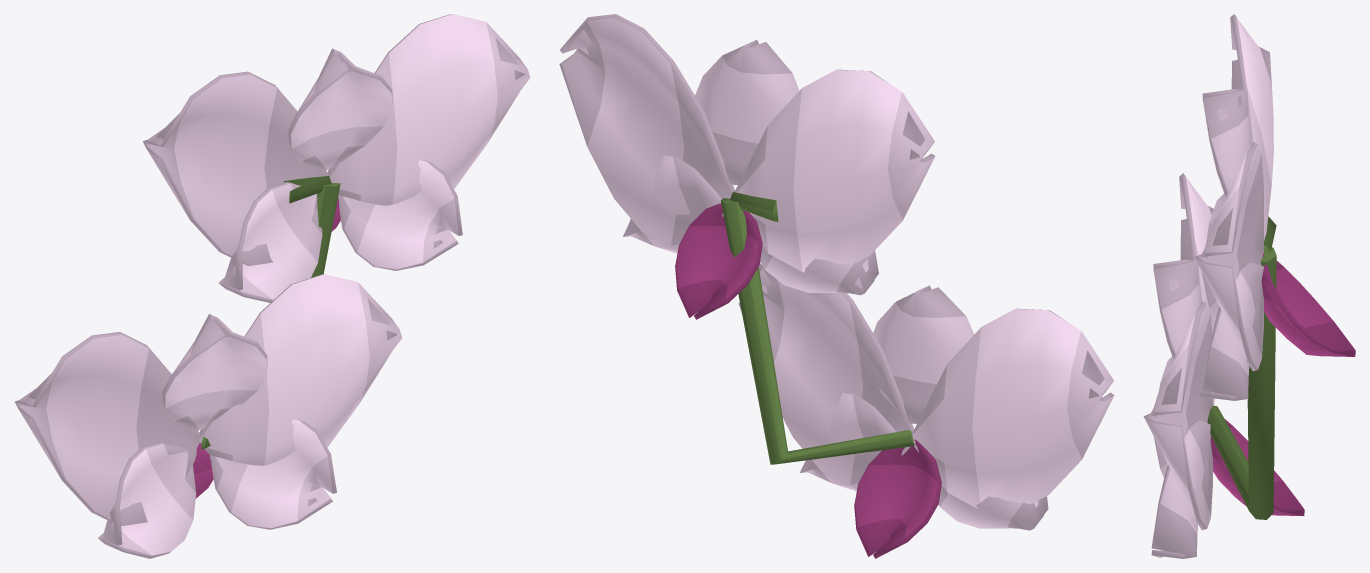
File: garden-orchid-bloom-head-1.glb
3 views of the same model, side by side, from view 1: azimuth 30°, elevation 25°; view 2: azimuth 150°, elevation 25°; view 3: azimuth 270°, elevation 25° (orthographic). The views are drawn at different scales.
Visible parts, largest first — view 1: orchid-bloom-head-1; view 2: orchid-bloom-head-1; view 3: orchid-bloom-head-1.
Part boxes in pixels (left/top/right/bottom): orchid-bloom-head-1: left=14, top=14, right=530, bottom=558; orchid-bloom-head-1: left=559, top=14, right=1114, bottom=558; orchid-bloom-head-1: left=1143, top=14, right=1355, bottom=558.
Bounding box in the file's own units: 0.1777 × 0.1459 × 0.0541.
